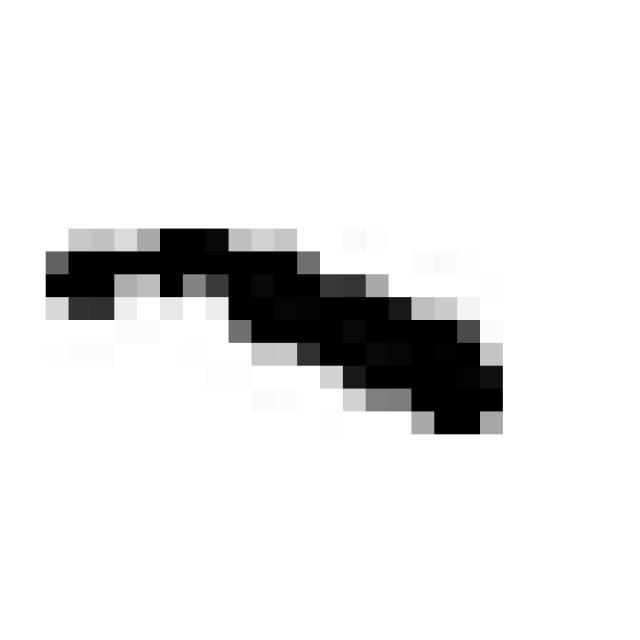0 -zero-: (32, 208, 516, 460)
